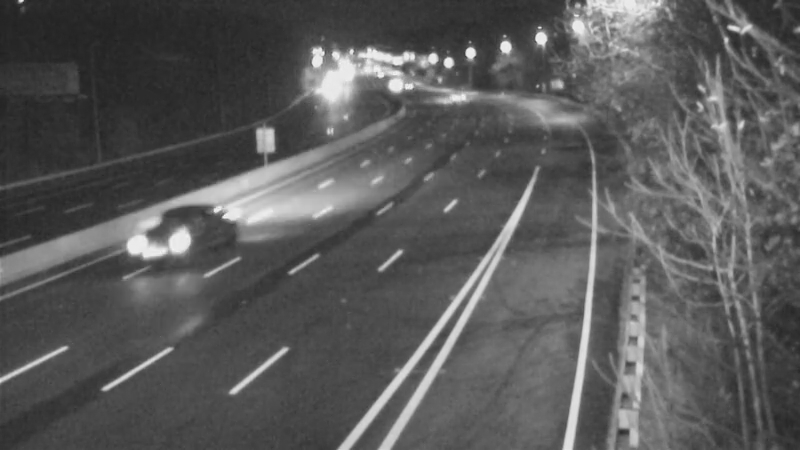vehicle: (128, 203, 208, 283), (367, 59, 417, 109), (384, 59, 434, 109), (436, 69, 486, 119)
